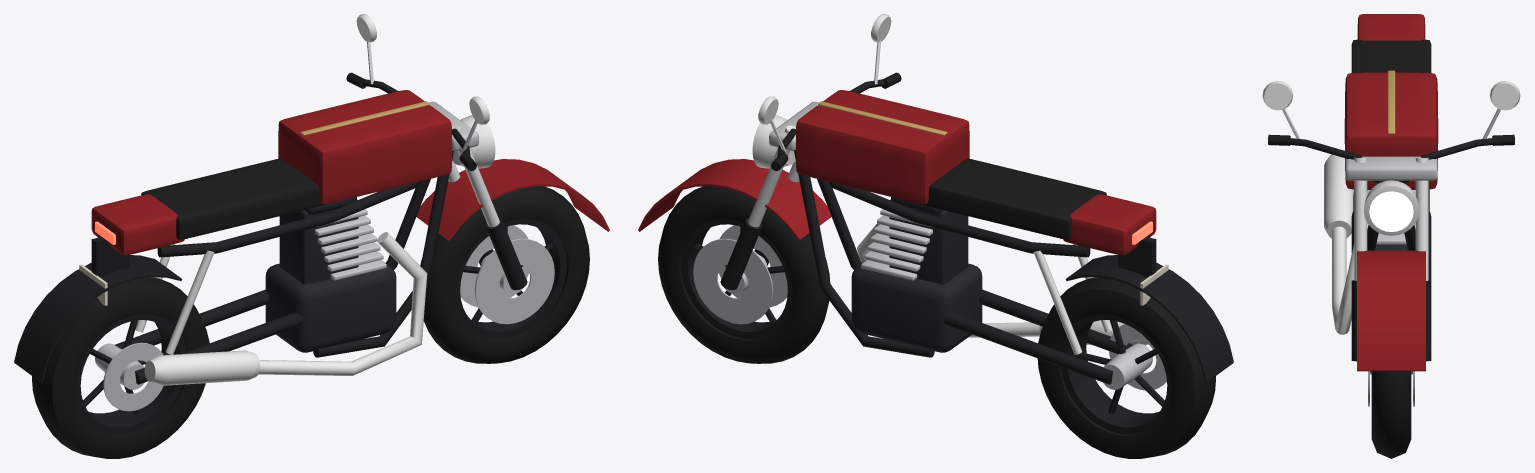
File: motorcycle.glb
3 views of the same model, side by side, from view 1: azimuth 30°, elevation 25°; view 2: azimuth 150°, elevation 25°; view 3: azimuth 270°, elevation 25° (orthographic).
Visible parts, largest first — view 1: Tank_LOD0, Tyre_LOD0.001, Tyre_LOD0, Crankcase_LOD0, Seat_LOD0, Fender_LOD0.001, Fender_LOD0, Disc_LOD0.001, Exhaust_LOD0, Tail_LOD0, Silencer_LOD0, Rim_LOD0.001 (+17 smaller); view 2: Tank_LOD0, Tyre_LOD0.001, Tyre_LOD0, Crankcase_LOD0, Seat_LOD0, Fender_LOD0.001, Fender_LOD0, Rim_LOD0.001, Disc_LOD0, Tail_LOD0, Barrel_LOD0, Frame_LOD0.001 (+16 smaller); view 3: Fender_LOD0, Tank_LOD0, Tyre_LOD0, Seat_LOD0, Clamp_LOD0, Exhaust_LOD0, Silencer_LOD0, Tail_LOD0, Lens_LOD0, Fork_LOD0, Fork_LOD0.001, Headlight_LOD0 (+9 smaller).
Boxes of the visible parts, x1,y1,x2,y2 form: Tank_LOD0: (278,90,451,203); Tyre_LOD0.001: (32,277,209,458); Tyre_LOD0: (420,186,589,363); Crankcase_LOD0: (265,260,396,352); Seat_LOD0: (141,158,324,239); Fender_LOD0.001: (14,255,182,383); Fender_LOD0: (416,159,609,240); Disc_LOD0.001: (474,238,554,324); Exhaust_LOD0: (258,232,427,375); Tail_LOD0: (91,194,184,255); Silencer_LOD0: (144,350,260,385); Rim_LOD0.001: (76,314,186,434); Tank_LOD0: (796,90,969,203); Tyre_LOD0.001: (1037,277,1215,458); Tyre_LOD0: (658,186,829,363); Crankcase_LOD0: (851,260,982,352); Seat_LOD0: (923,158,1106,239); Fender_LOD0.001: (1065,255,1233,383); Fender_LOD0: (638,159,831,240); Rim_LOD0.001: (1061,314,1171,434); Disc_LOD0: (693,238,773,324); Tail_LOD0: (1063,194,1156,255); Barrel_LOD0: (889,199,968,284); Frame_LOD0.001: (827,181,1090,257); Fender_LOD0: (1357,250,1425,371); Tank_LOD0: (1344,72,1438,189); Tyre_LOD0: (1371,371,1411,458); Seat_LOD0: (1351,39,1431,72); Clamp_LOD0: (1345,156,1437,180); Exhaust_LOD0: (1332,223,1368,334); Silencer_LOD0: (1324,154,1353,238); Tail_LOD0: (1357,14,1425,40); Lens_LOD0: (1369,191,1413,231); Fork_LOD0: (1354,157,1367,280); Fork_LOD0.001: (1415,157,1428,280); Headlight_LOD0: (1364,180,1418,235).
Bounding box in the file's own units: 2.14 × 1.18 × 0.84.
